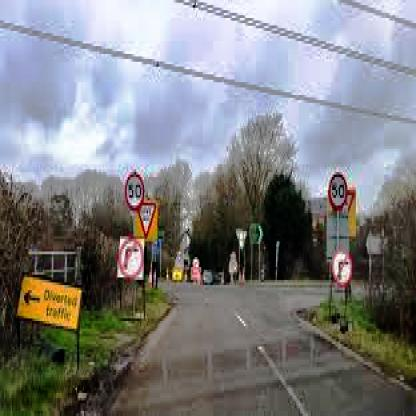No right turn: (116, 234, 145, 281), (331, 250, 351, 287)
